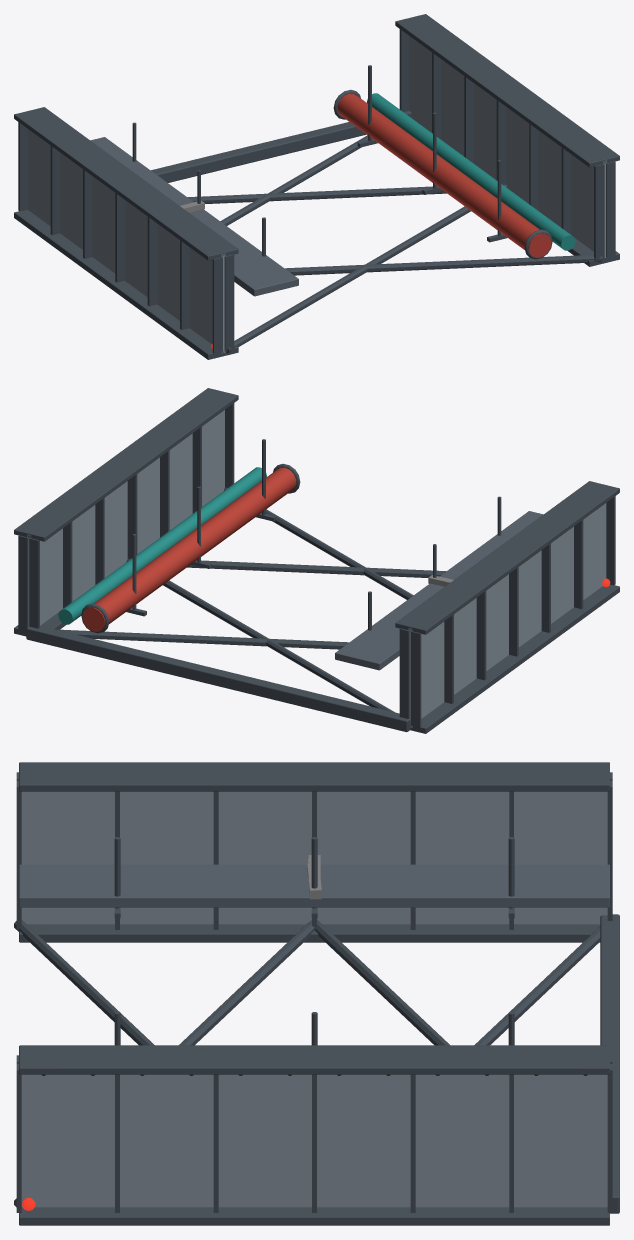
Rendered from rt_girder_bay.glb.
The picture shows the model from 3 angles, top to bottom: view 1: azimuth 30°, elevation 25°; view 2: azimuth 150°, elevation 25°; view 3: azimuth 270°, elevation 25°; orthographic projection. The views are drawn at different scales.
Visible parts, largest first — view 1: rt_girder_bay_body; view 2: rt_girder_bay_body; view 3: rt_girder_bay_body.
Boxes of the visible parts, x1,y1,x2,y2 form: rt_girder_bay_body: [14, 14, 619, 359]; rt_girder_bay_body: [14, 388, 619, 733]; rt_girder_bay_body: [14, 762, 619, 1225].
Bounding box in the file's own units: 7.35 × 1.77 × 6.15.
